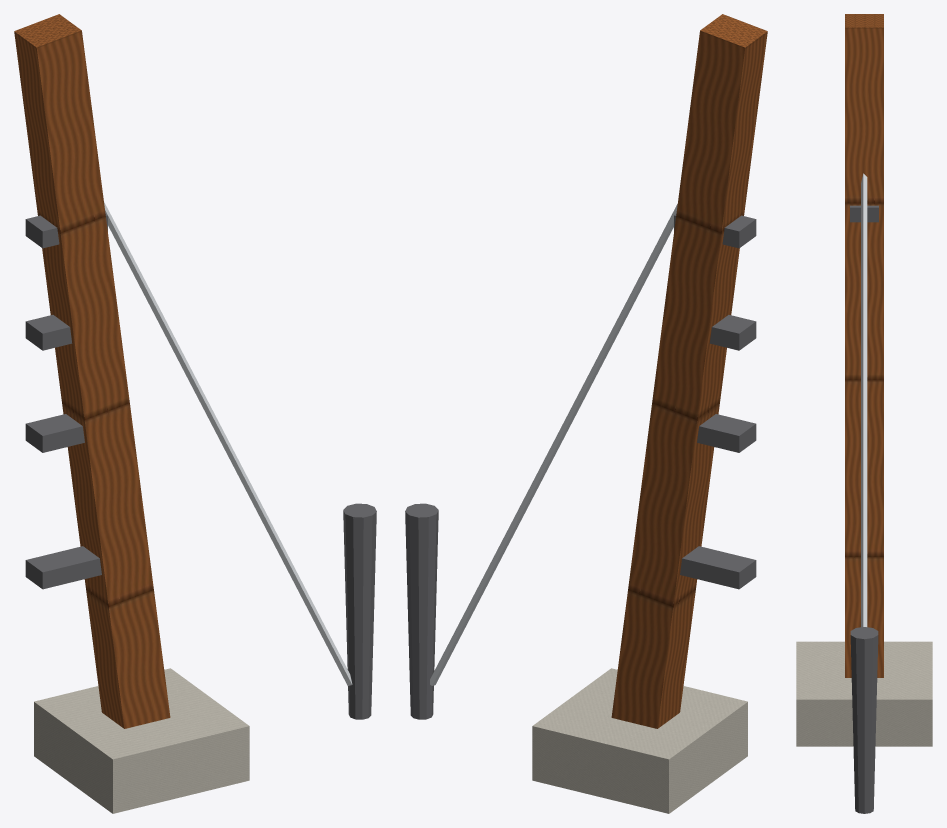
File: trellis-end-post.glb
3 renders of one model, left to right at view 1: azimuth 30°, elevation 25°; view 2: azimuth 150°, elevation 25°; view 3: azimuth 270°, elevation 25°, orthographic. The views are drawn at different scales.
Visible parts, largest first — view 1: trellis-end-post-timber, trellis-end-post-stone, trellis-end-post-dark, trellis-end-post-steel; view 2: trellis-end-post-timber, trellis-end-post-stone, trellis-end-post-dark, trellis-end-post-steel; view 3: trellis-end-post-timber, trellis-end-post-stone, trellis-end-post-dark, trellis-end-post-steel.
Part boxes in pixels (box(x1,y1,x2,y2)): trellis-end-post-timber: box(14, 14, 170, 728); trellis-end-post-stone: box(34, 668, 249, 813); trellis-end-post-dark: box(25, 214, 376, 719); trellis-end-post-steel: box(104, 202, 352, 685); trellis-end-post-timber: box(611, 14, 767, 728); trellis-end-post-stone: box(532, 668, 747, 813); trellis-end-post-dark: box(405, 214, 756, 719); trellis-end-post-steel: box(430, 204, 677, 685); trellis-end-post-timber: box(845, 14, 883, 677); trellis-end-post-stone: box(796, 641, 932, 746); trellis-end-post-dark: box(850, 205, 878, 813); trellis-end-post-steel: box(861, 173, 867, 627).
Size of the model in its own units: 1.07 by 2.28 by 0.42.
4 materials, 2 textured.
